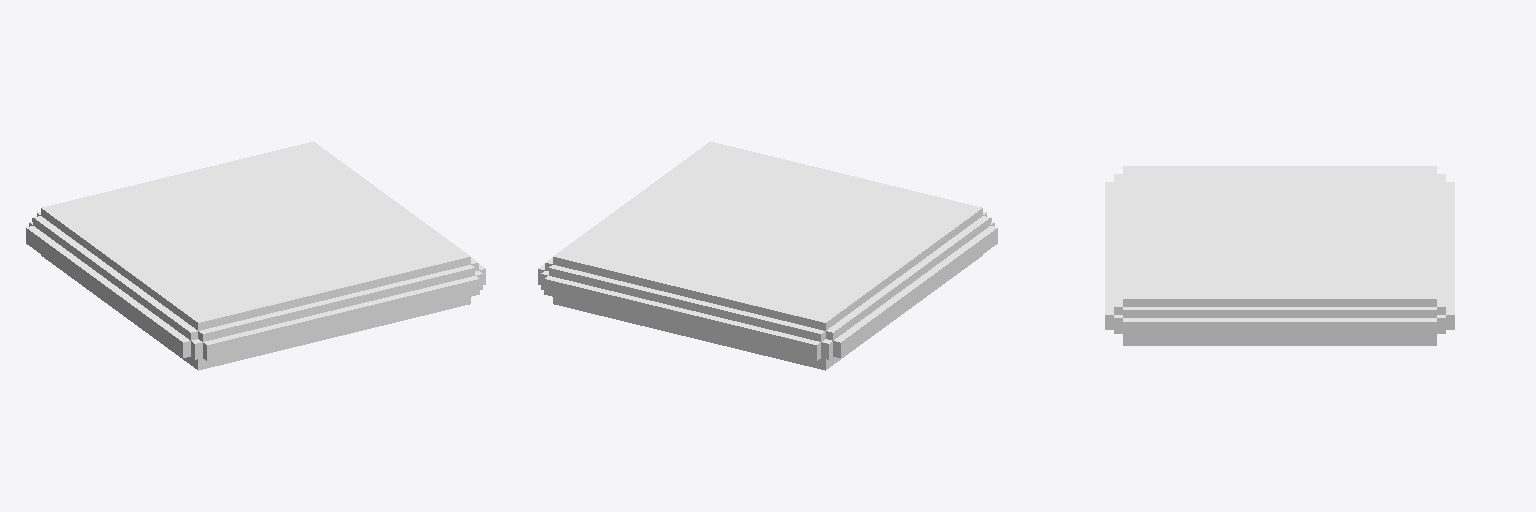
The model's file is deco-0.obj.
3 renders of one model, left to right at view 1: azimuth 30°, elevation 25°; view 2: azimuth 150°, elevation 25°; view 3: azimuth 270°, elevation 25°, orthographic.
Parts seen in each view (by area): view 1: object 1; view 2: object 1; view 3: object 1.
Boxes of the visible parts, x1,y1,x2,y2 form: object 1: [26, 141, 485, 370]; object 1: [538, 141, 997, 370]; object 1: [1105, 166, 1454, 345].
Bounding box in the file's own units: 4 × 0.6 × 4.